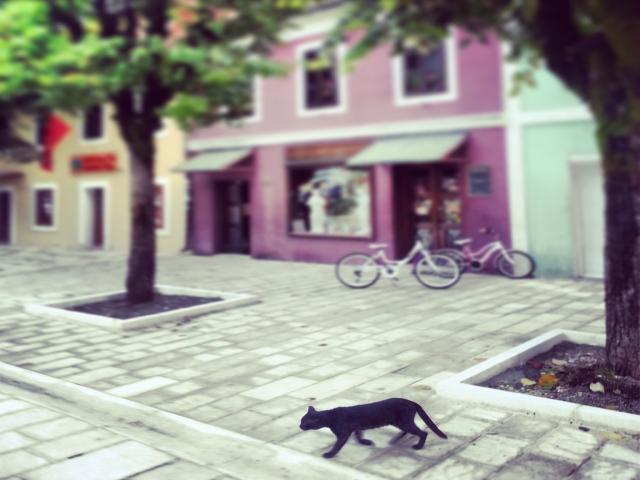Cat: (296, 396, 450, 459)
